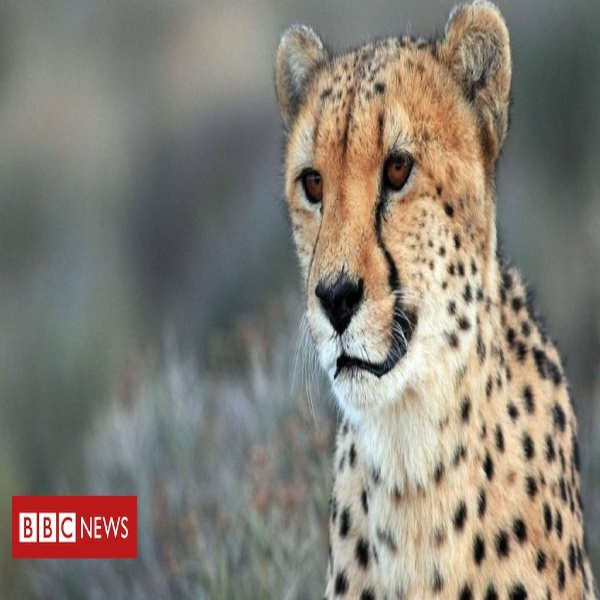Cheetah: (272, 3, 599, 600)
